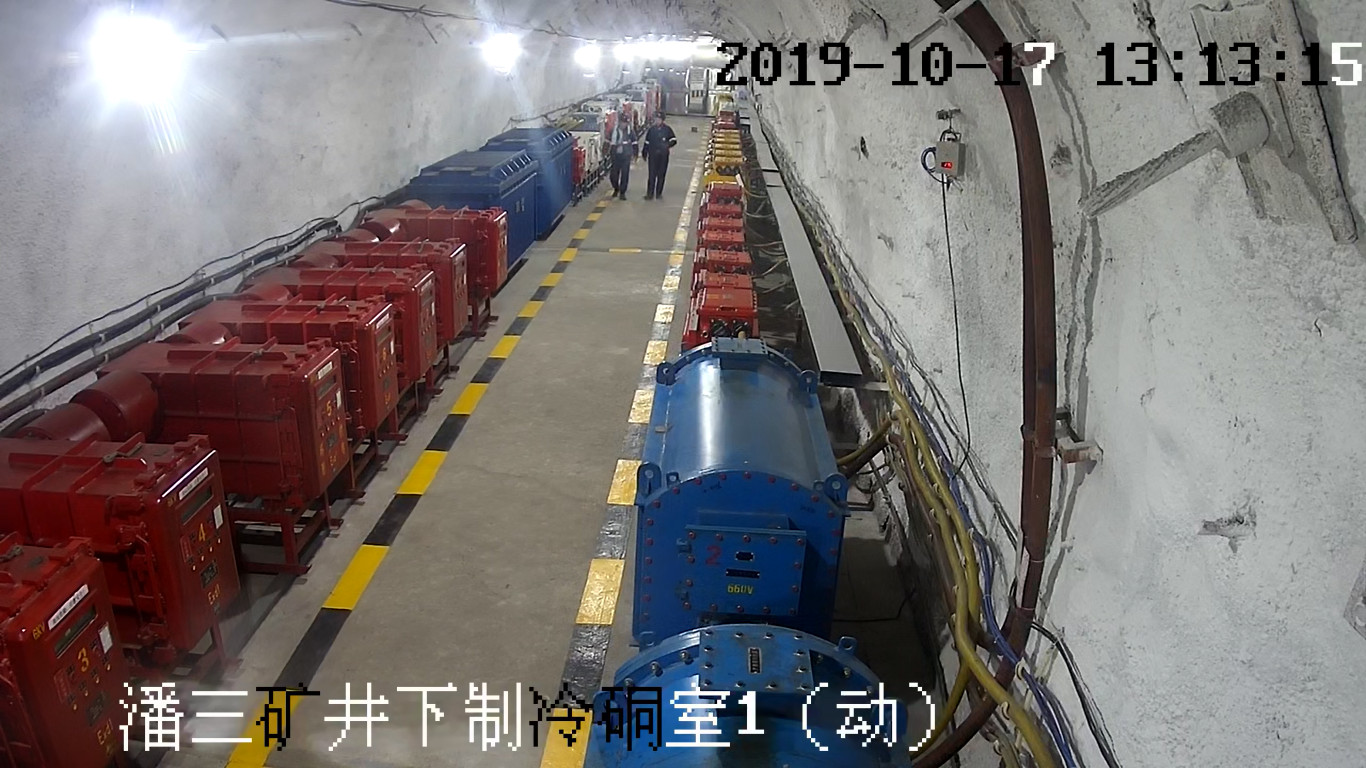helmet: (618, 112, 631, 123), (651, 111, 665, 120)
